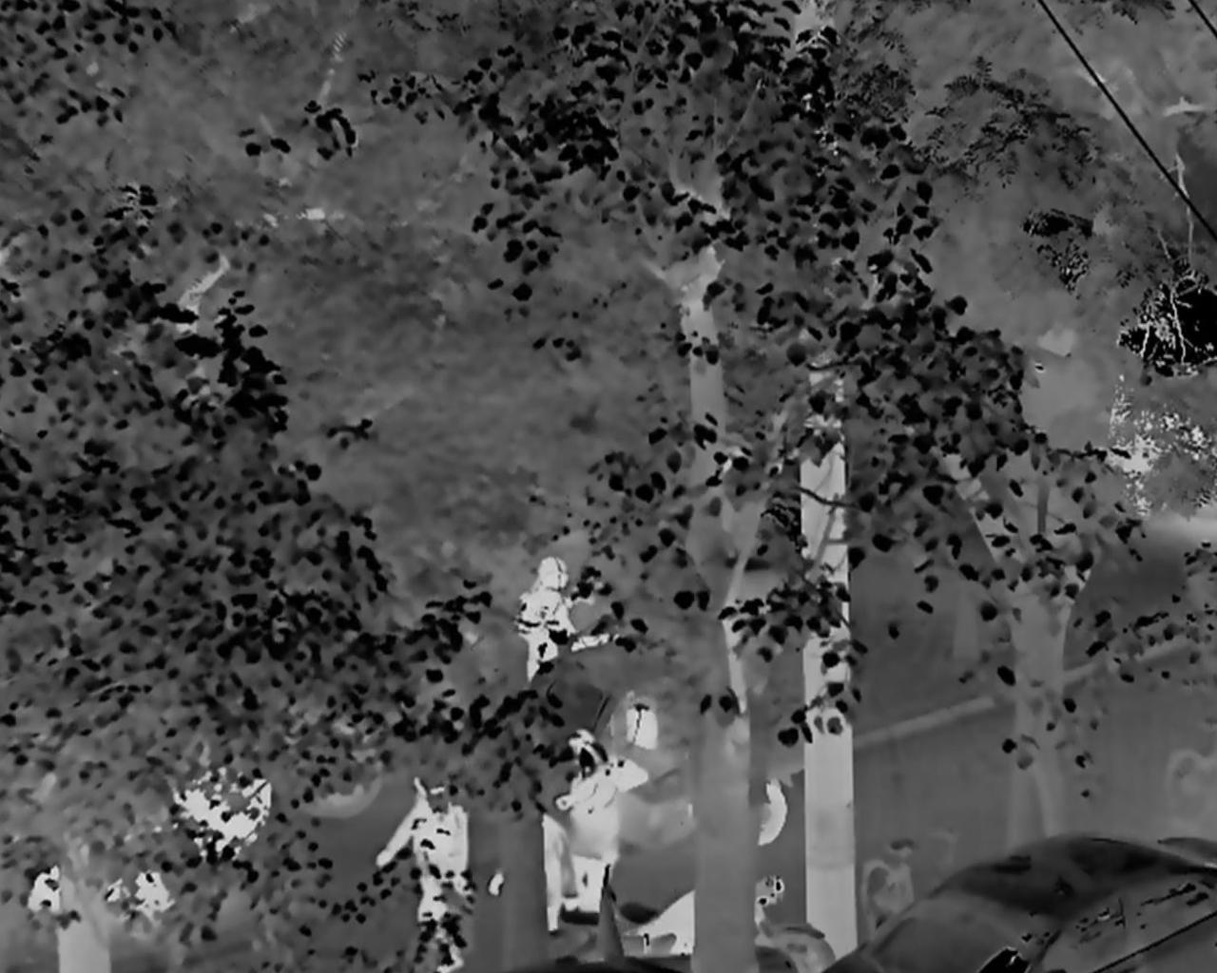person: (377, 775, 469, 973), (517, 556, 618, 681), (556, 741, 626, 915), (488, 798, 577, 933)
